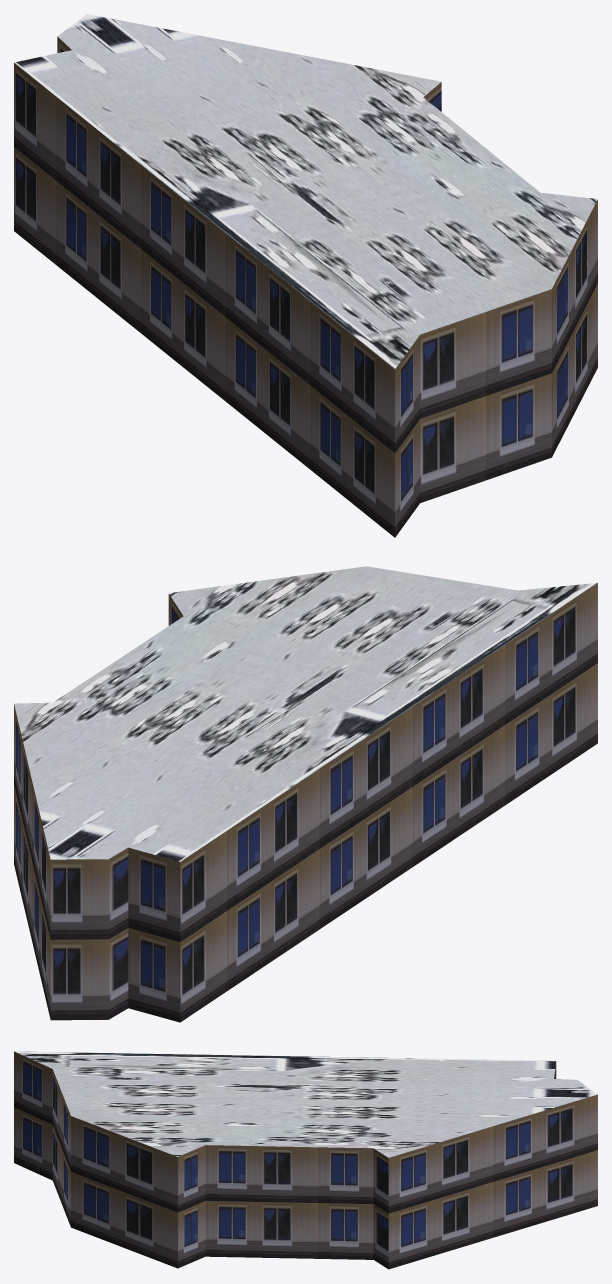
The model's file is ResTex__1412.fbx.
3 renders of one model, top to bottom at view 1: azimuth 30°, elevation 25°; view 2: azimuth 150°, elevation 25°; view 3: azimuth 270°, elevation 25°, orthographic. The views are drawn at different scales.
Parts seen in each view (by area): view 1: CityEngineMaterial_5_m, CityEngineMaterial_8_m; view 2: CityEngineMaterial_5_m, CityEngineMaterial_8_m; view 3: CityEngineMaterial_5_m, CityEngineMaterial_8_m.
Boxes of the visible parts, x1,y1,x2,y2 form: CityEngineMaterial_5_m: [14, 36, 597, 537]; CityEngineMaterial_8_m: [14, 14, 597, 368]; CityEngineMaterial_5_m: [14, 583, 597, 1022]; CityEngineMaterial_8_m: [14, 566, 597, 861]; CityEngineMaterial_5_m: [14, 1051, 597, 1269]; CityEngineMaterial_8_m: [14, 1051, 597, 1157].
Size of the model in its own units: 12.28 by 6 by 28.46.
Materials: 2 (2 with a texture image).
